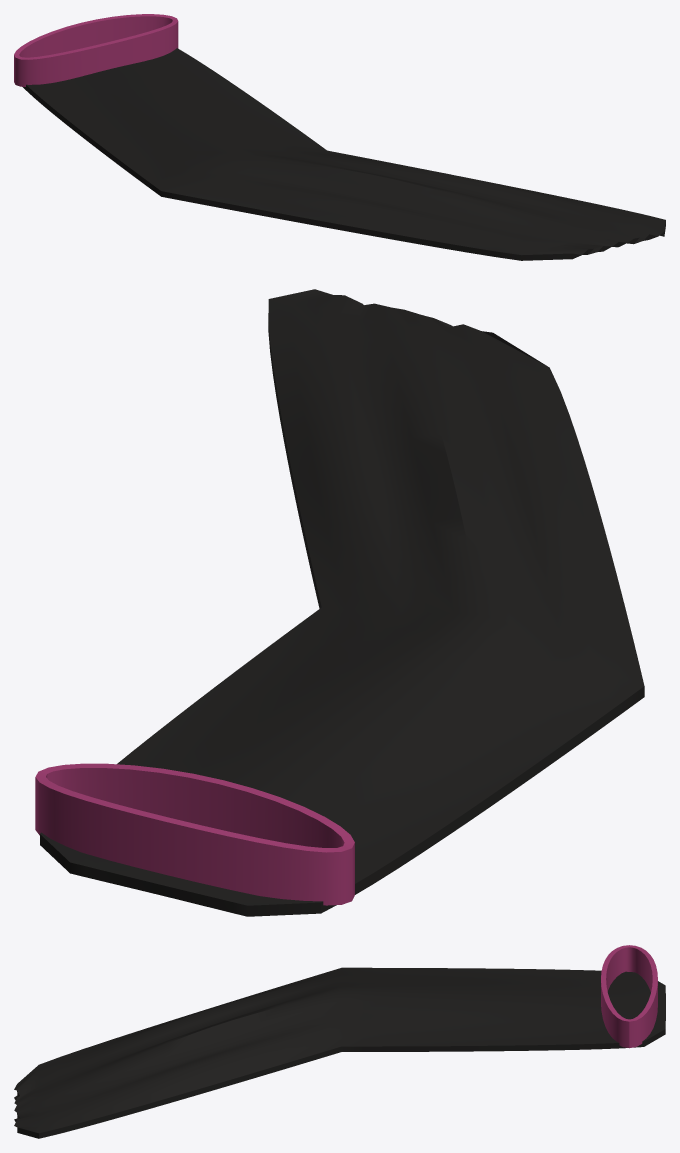
File: sock-dropped-vibe-286bdb35eb9c.glb
The picture shows the model from 3 angles, top to bottom: view 1: azimuth 30°, elevation 25°; view 2: azimuth 150°, elevation 25°; view 3: azimuth 270°, elevation 25°; orthographic projection. The views are drawn at different scales.
Visible parts, largest first — view 1: rubber, accent-magenta; view 2: rubber, accent-magenta; view 3: rubber, accent-magenta.
Boxes of the visible parts, x1,y1,x2,y2 form: rubber: [23, 48, 665, 260]; accent-magenta: [14, 14, 178, 86]; rubber: [40, 289, 644, 916]; accent-magenta: [35, 763, 354, 905]; rubber: [14, 967, 665, 1138]; accent-magenta: [601, 945, 657, 1048].
Size of the model in its own units: 0.158 by 0.015 by 0.263.
